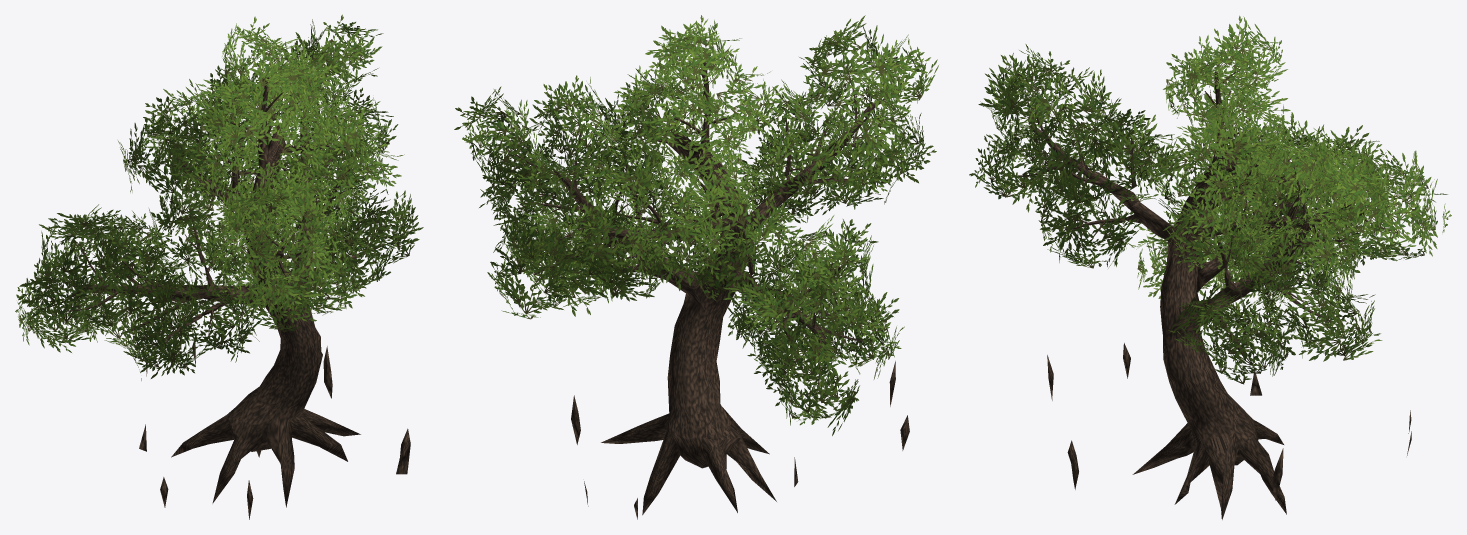
File: Oak_07.lod1.glb
3 views of the same model, side by side, from view 1: azimuth 30°, elevation 25°; view 2: azimuth 150°, elevation 25°; view 3: azimuth 270°, elevation 25° (orthographic). The views are drawn at different scales.
Parts seen in each view (by area): view 1: Leaves, Trunk; view 2: Leaves, Trunk; view 3: Leaves, Trunk.
Part boxes in pixels (box(x1,y1,x2,y2)): Leaves: box(15, 14, 423, 380); Trunk: box(49, 62, 410, 519); Leaves: box(454, 15, 938, 435); Trunk: box(498, 62, 909, 519); Leaves: box(969, 15, 1451, 384); Trunk: box(1018, 69, 1411, 519).
Size of the model in its own units: 14.41 by 16.11 by 14.86.
Materials: 2 (2 with a texture image).
